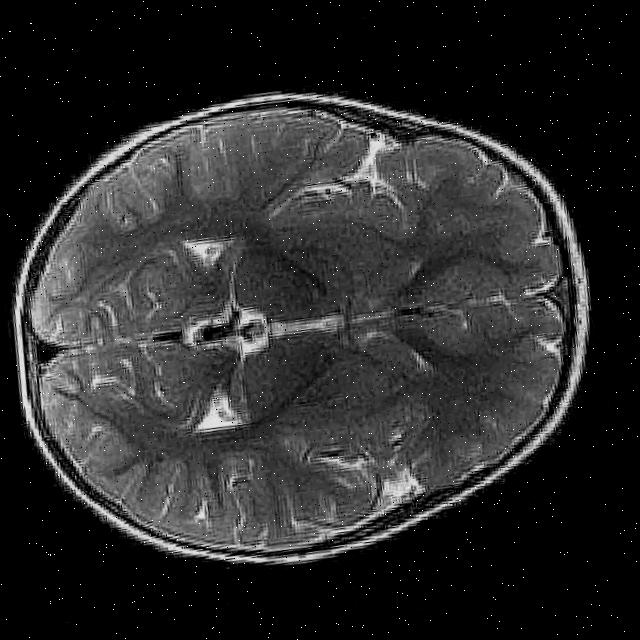NoTumor: (0, 29, 638, 621)
